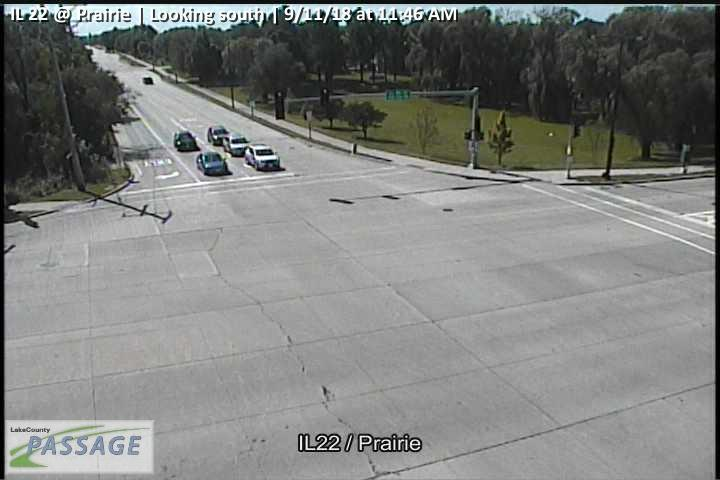SUV: (245, 143, 280, 170), (222, 131, 248, 156), (173, 130, 196, 151), (207, 125, 228, 146)
Sedan: (197, 152, 227, 175)
